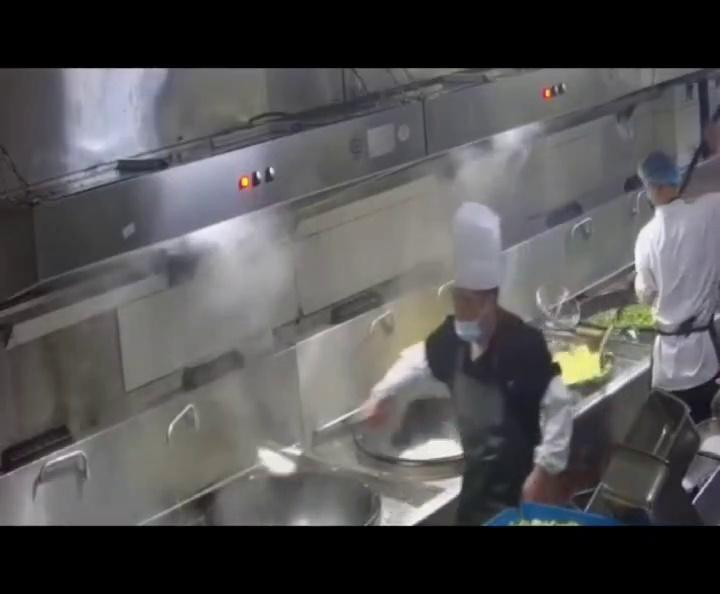mask: (450, 296, 483, 336)
